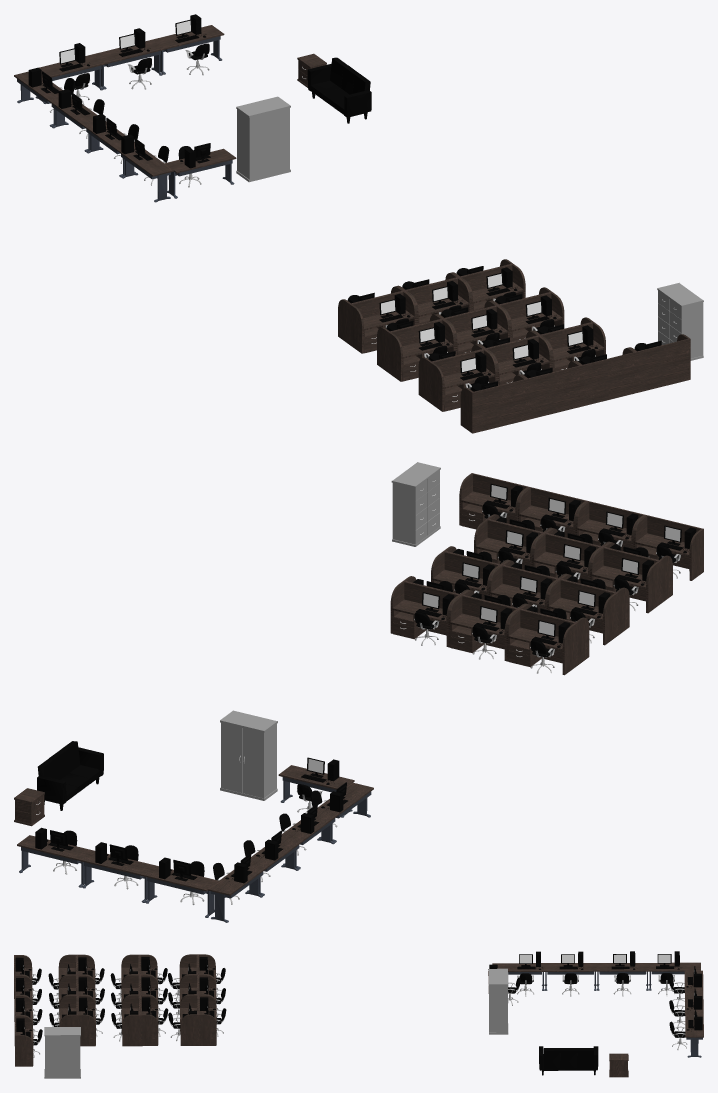
The model's file is USIT-P1Lab_.glb.
3 renders of one model, top to bottom at view 1: azimuth 30°, elevation 25°; view 2: azimuth 150°, elevation 25°; view 3: azimuth 270°, elevation 25°, orthographic. The views are drawn at different scales.
Visible parts, largest first — view 1: Madera_P1, Compu_P1, Almacen_P1, MetalMesa_P1, VidriosCompu_P2, BaseSillas_P1; view 2: Madera_P1, Compu_P1, Almacen_P1, MetalMesa_P1, VidriosCompu_P2, BaseSillas_P1; view 3: Madera_P1, Compu_P1, Almacen_P1, BaseSillas_P1, MetalMesa_P1, VidriosCompu_P2.
Part boxes in pixels (x1,y1,x2,y2): Madera_P1: [14, 25, 690, 433]; Compu_P1: [28, 14, 661, 391]; Almacen_P1: [236, 96, 703, 360]; MetalMesa_P1: [17, 36, 234, 202]; VidriosCompu_P2: [60, 20, 582, 371]; BaseSillas_P1: [50, 50, 595, 388]; Madera_P1: [14, 473, 703, 895]; Compu_P1: [35, 483, 696, 883]; Almacen_P1: [220, 462, 440, 800]; MetalMesa_P1: [19, 777, 371, 922]; VidriosCompu_P2: [308, 485, 680, 773]; BaseSillas_P1: [53, 510, 680, 904]; Madera_P1: [14, 954, 703, 1077]; Compu_P1: [15, 951, 702, 1075]; Almacen_P1: [44, 968, 508, 1078]; BaseSillas_P1: [32, 973, 687, 1057]; MetalMesa_P1: [508, 971, 702, 1057]; VidriosCompu_P2: [23, 954, 694, 1028].
Bounding box in the file's own units: 0.0891 × 0.0221 × 0.274.
Materials: 7 (2 with a texture image).
